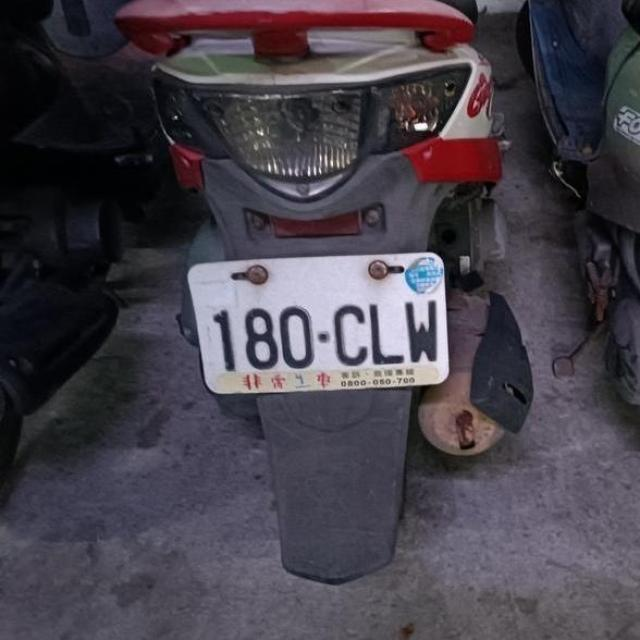W: (186, 244, 457, 402)
